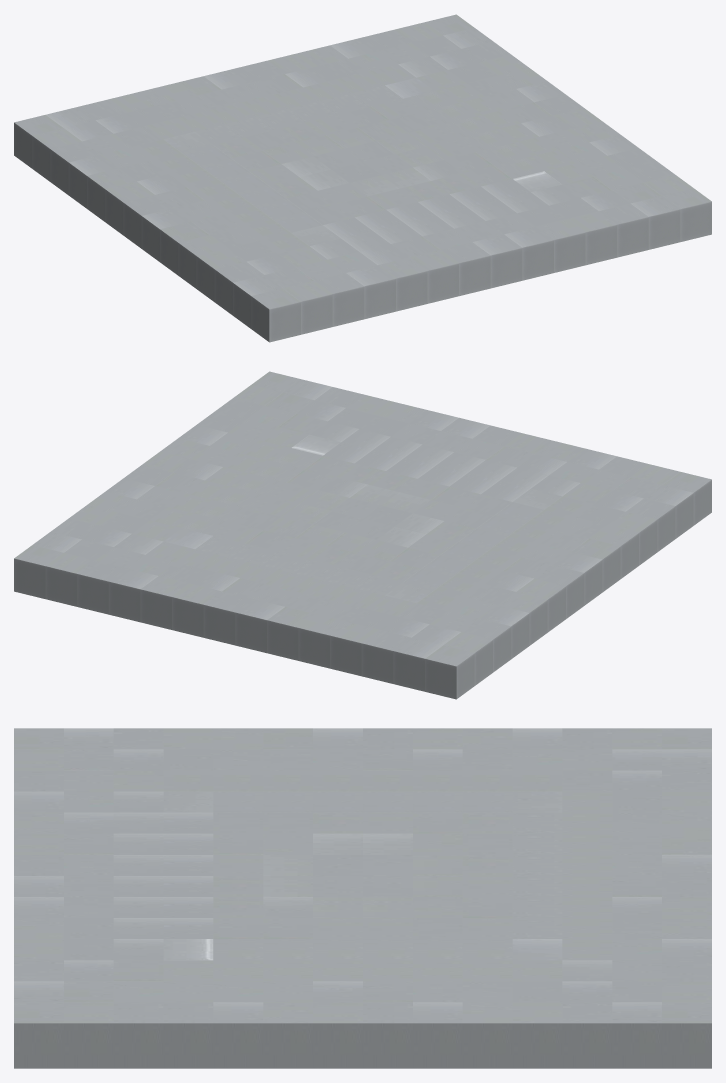
File: flat-test.obj
3 views of the same model, one above another, from view 1: azimuth 30°, elevation 25°; view 2: azimuth 150°, elevation 25°; view 3: azimuth 270°, elevation 25° (orthographic). The views are drawn at different scales.
Parts seen in each view (by area): view 1: Merged_Meshes; view 2: Merged_Meshes; view 3: Merged_Meshes.
Boxes of the visible parts, x1,y1,x2,y2 form: Merged_Meshes: (14, 14, 711, 342); Merged_Meshes: (14, 371, 711, 699); Merged_Meshes: (14, 728, 711, 1068).
Bounding box in the file's own units: 7 × 0.5 × 7.
Materials: 1 (1 with a texture image).
